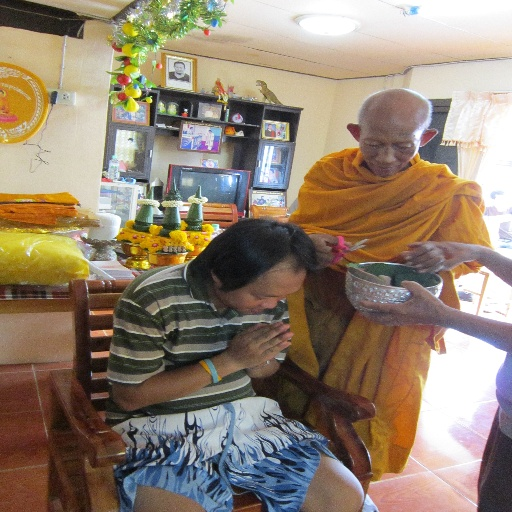hand: (354, 278, 451, 326), (409, 240, 480, 275), (256, 321, 294, 365), (308, 231, 351, 268), (401, 240, 446, 275)
